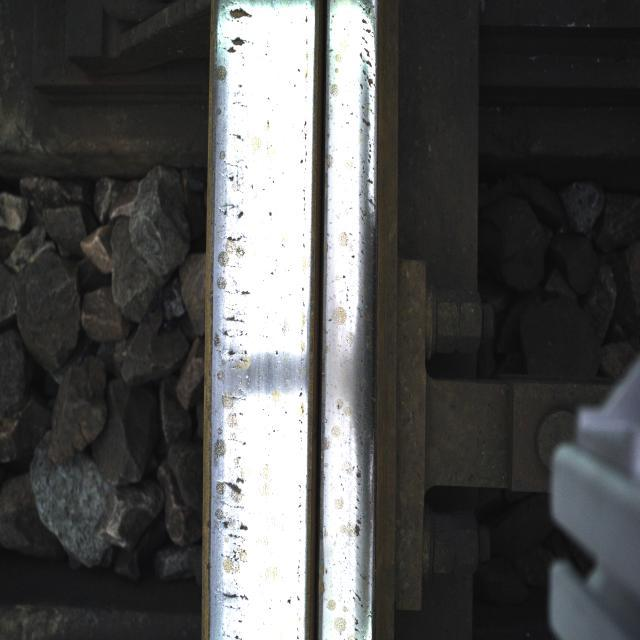scar: (220, 0, 261, 595)
